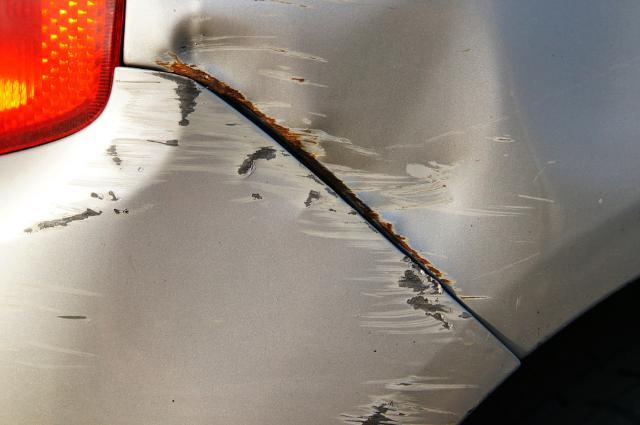Bumper: (0, 72, 535, 425)
Fender: (129, 0, 640, 360)
